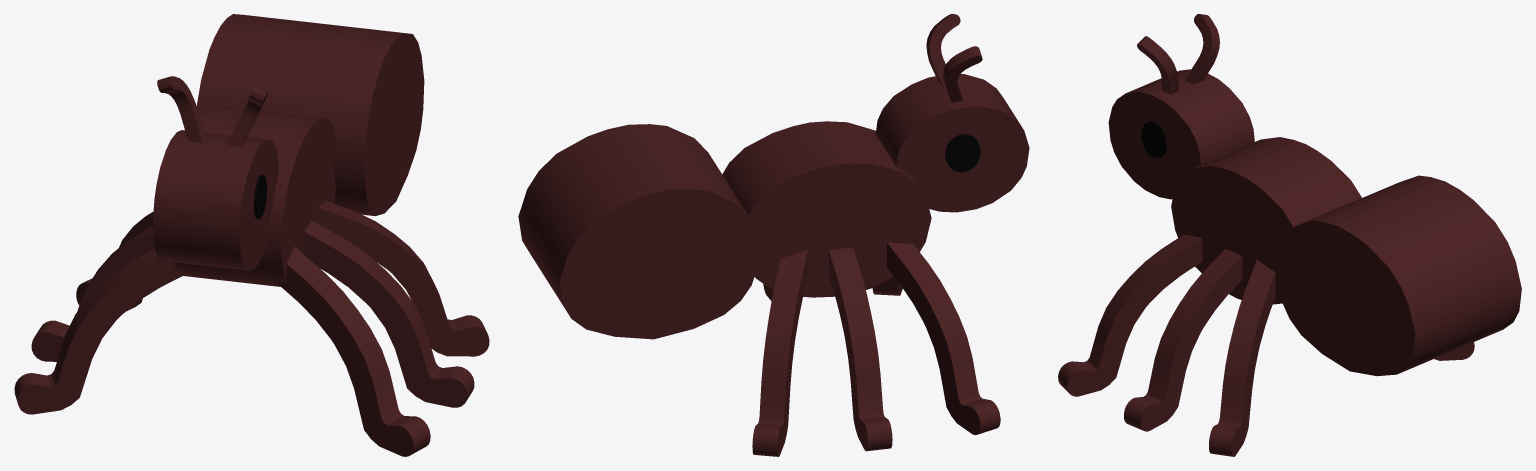
The model's file is ant.glb.
The picture shows the model from 3 angles, left to right: view 1: azimuth 30°, elevation 25°; view 2: azimuth 150°, elevation 25°; view 3: azimuth 270°, elevation 25°; orthographic projection. The views are drawn at different scales.
Parts seen in each view (by area): view 1: Cube.133; view 2: Cube.133; view 3: Cube.133.
Boxes of the visible parts, <box> form: Cube.133: <box>14,14,489,456</box>; Cube.133: <box>518,14,1029,456</box>; Cube.133: <box>1058,14,1521,456</box>.
Size of the model in its own units: 2.12 by 1.56 by 2.12.
1 material, 1 textured.
